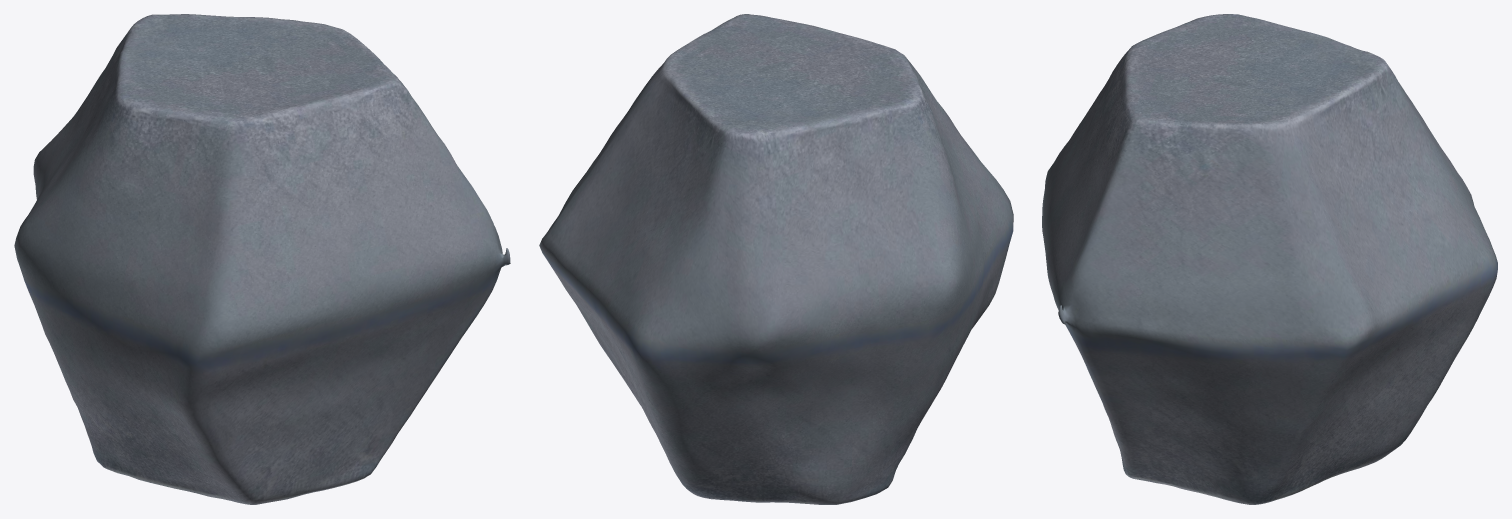
Rendered from 5ddbecc71a2d_metal_hexagonal_pri.fbx.
3 views of the same model, side by side, from view 1: azimuth 30°, elevation 25°; view 2: azimuth 150°, elevation 25°; view 3: azimuth 270°, elevation 25° (orthographic). The views are drawn at different scales.
Visible parts, largest first — view 1: mesh; view 2: mesh; view 3: mesh.
Part boxes in pixels (<box>): mesh: <box>14,14,510,504</box>; mesh: <box>539,14,1013,504</box>; mesh: <box>1042,14,1497,504</box>.
Size of the model in its own units: 98.07 by 91.1 by 99.87.
